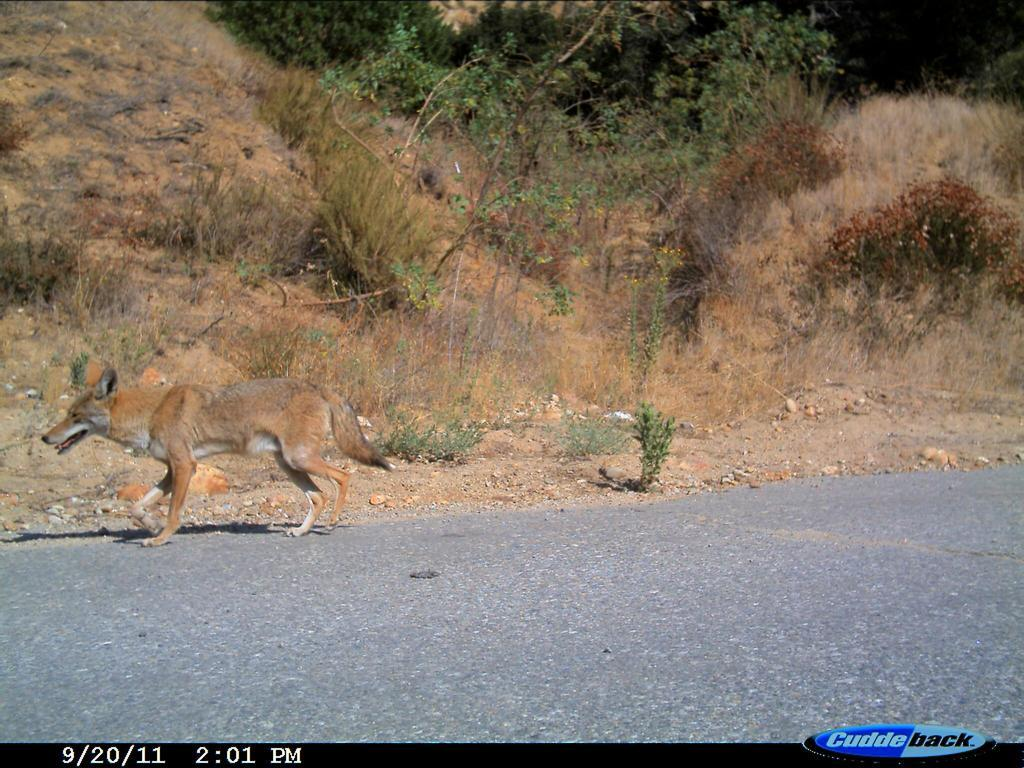coyote: (33, 367, 397, 548)
